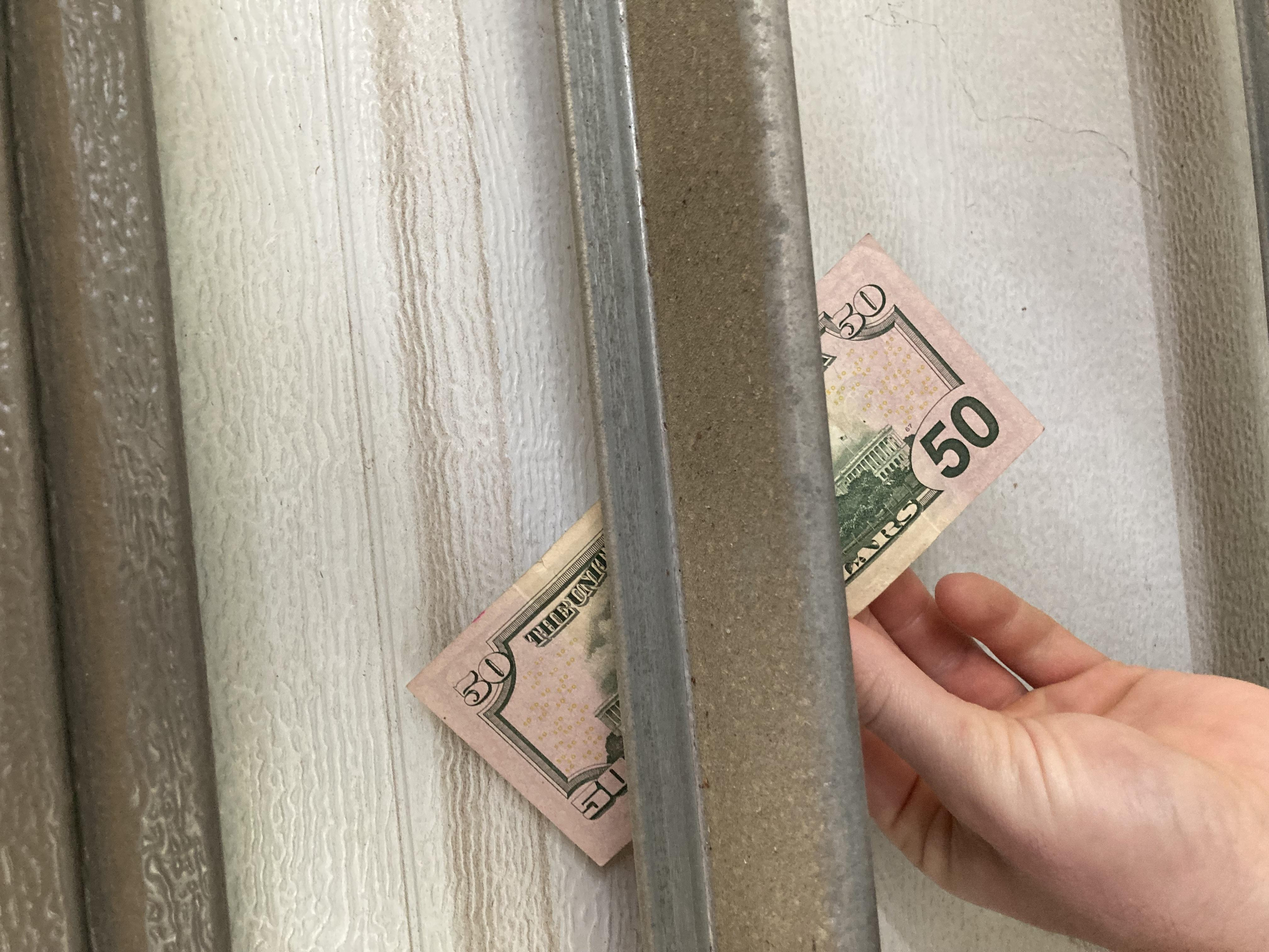fifty-back: (110, 303, 965, 786)
